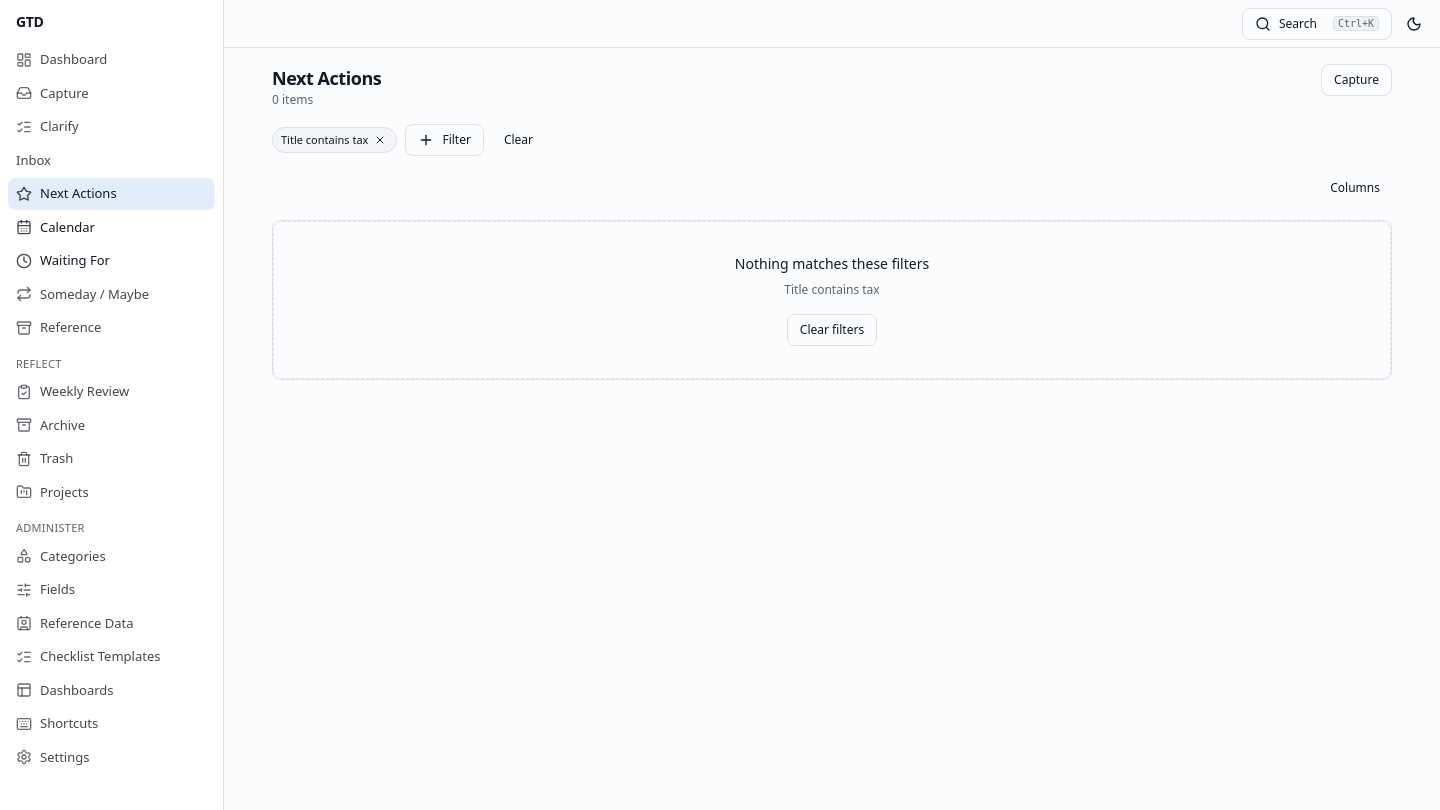
Scenario: filtering › removes a filter by its close button
Click the button named "Remove filter": coordinates (380, 140) [372,132,388,148]
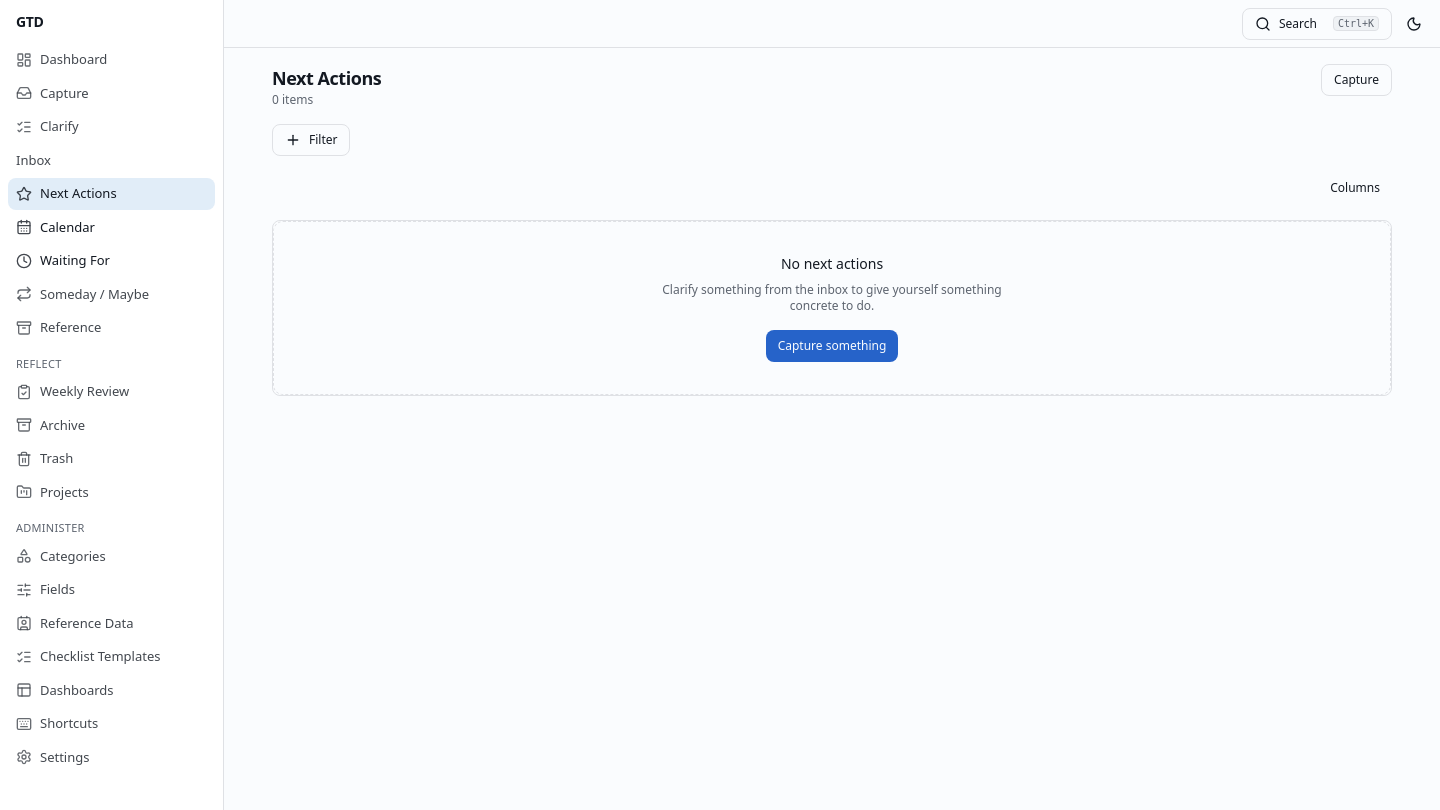
Expected: the text "Title contains tax" is gone
